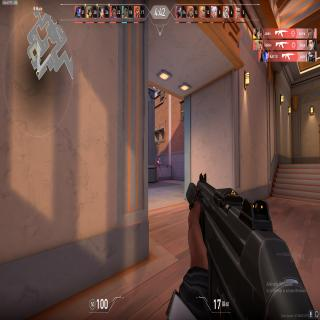ENEMY-BODY: (157, 156, 161, 170)
ENEMY-HEAD: (158, 156, 159, 158)
